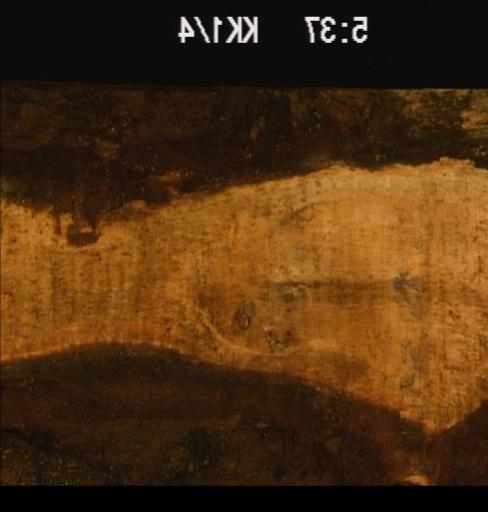dry_knot: (236, 309, 250, 330)
wave: (0, 76, 486, 245), (0, 339, 486, 484)
